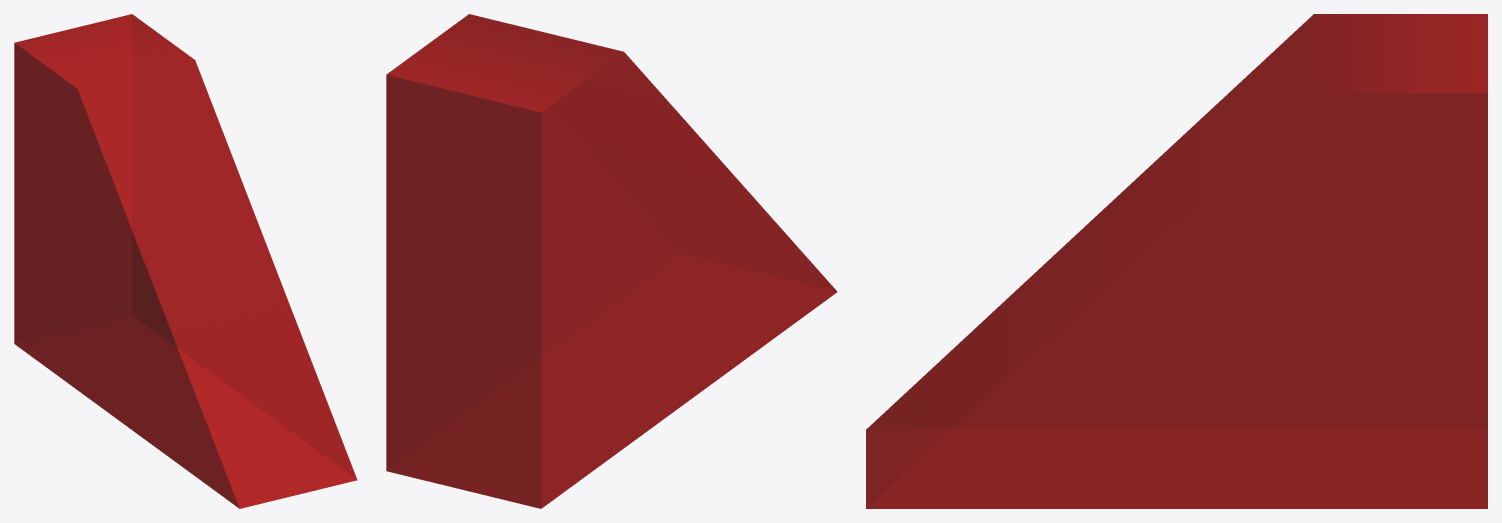
The model's file is SM_Bld_Village_Stairs_03_Collision.fbx.
3 views of the same model, side by side, from view 1: azimuth 30°, elevation 25°; view 2: azimuth 150°, elevation 25°; view 3: azimuth 270°, elevation 25° (orthographic). The views are drawn at different scales.
Visible parts, largest first — view 1: SM_Bld_Village_Stairs_03_Collision; view 2: SM_Bld_Village_Stairs_03_Collision; view 3: SM_Bld_Village_Stairs_03_Collision.
Boxes of the visible parts, box(x1,y1,x2,y2) form: SM_Bld_Village_Stairs_03_Collision: box(14, 14, 357, 508); SM_Bld_Village_Stairs_03_Collision: box(386, 14, 837, 508); SM_Bld_Village_Stairs_03_Collision: box(866, 14, 1487, 508).
Size of the model in its own units: 132 by 324 by 439.
